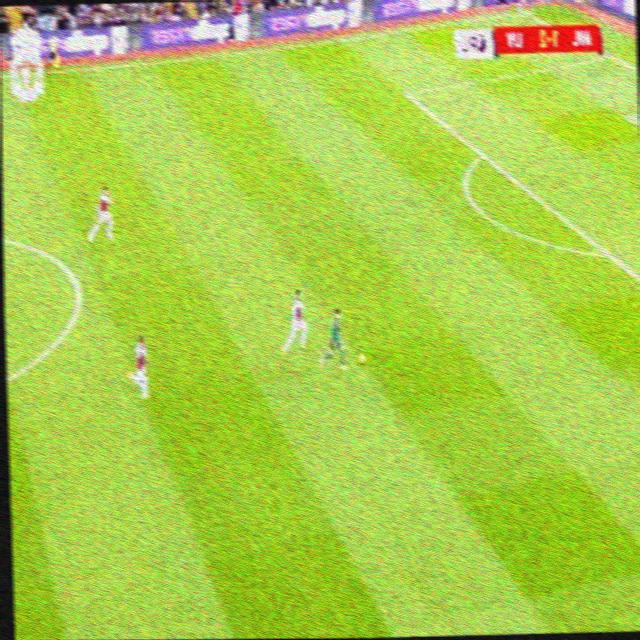bigarea_top_inner: (401, 81, 416, 102)
bigarea_top_outter: (602, 46, 617, 63)
bottom_arc_area_intersection: (598, 241, 617, 263)
corner: (509, 2, 532, 19)
smallarea_top_inner: (622, 107, 637, 125)
top_arc_area_intersection: (475, 142, 492, 162)
